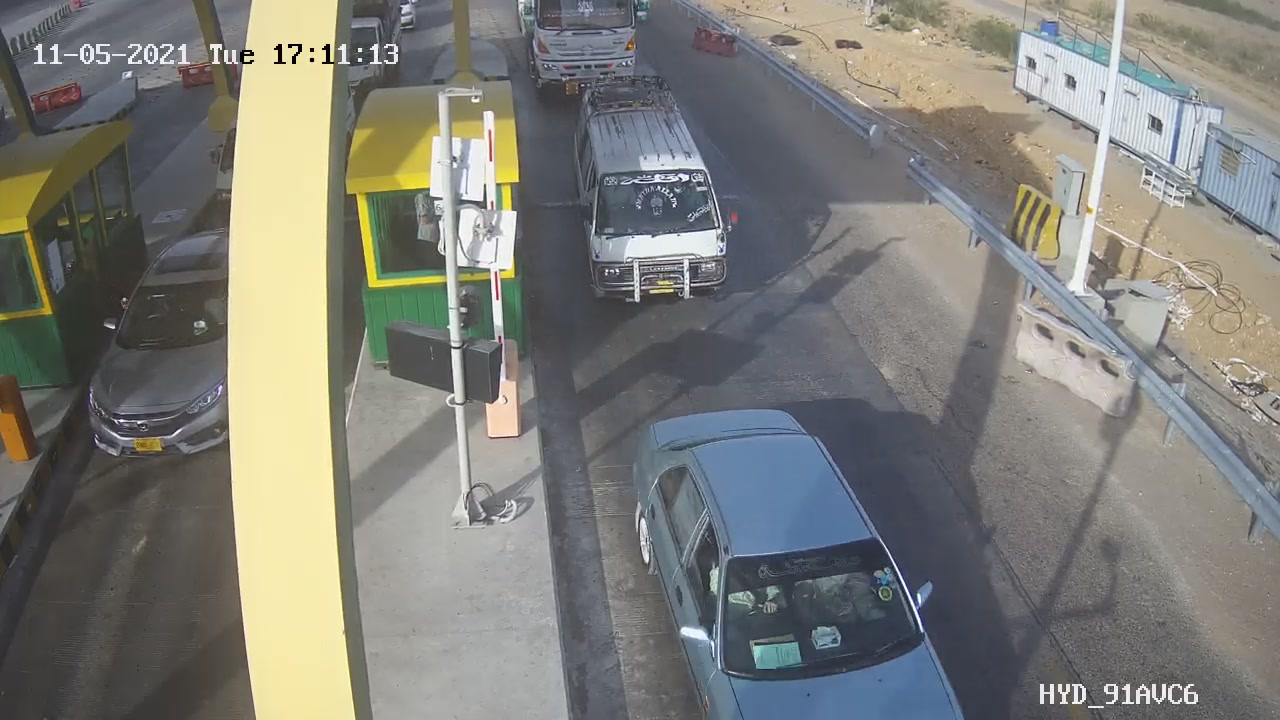F2: (544, 60, 766, 329)
